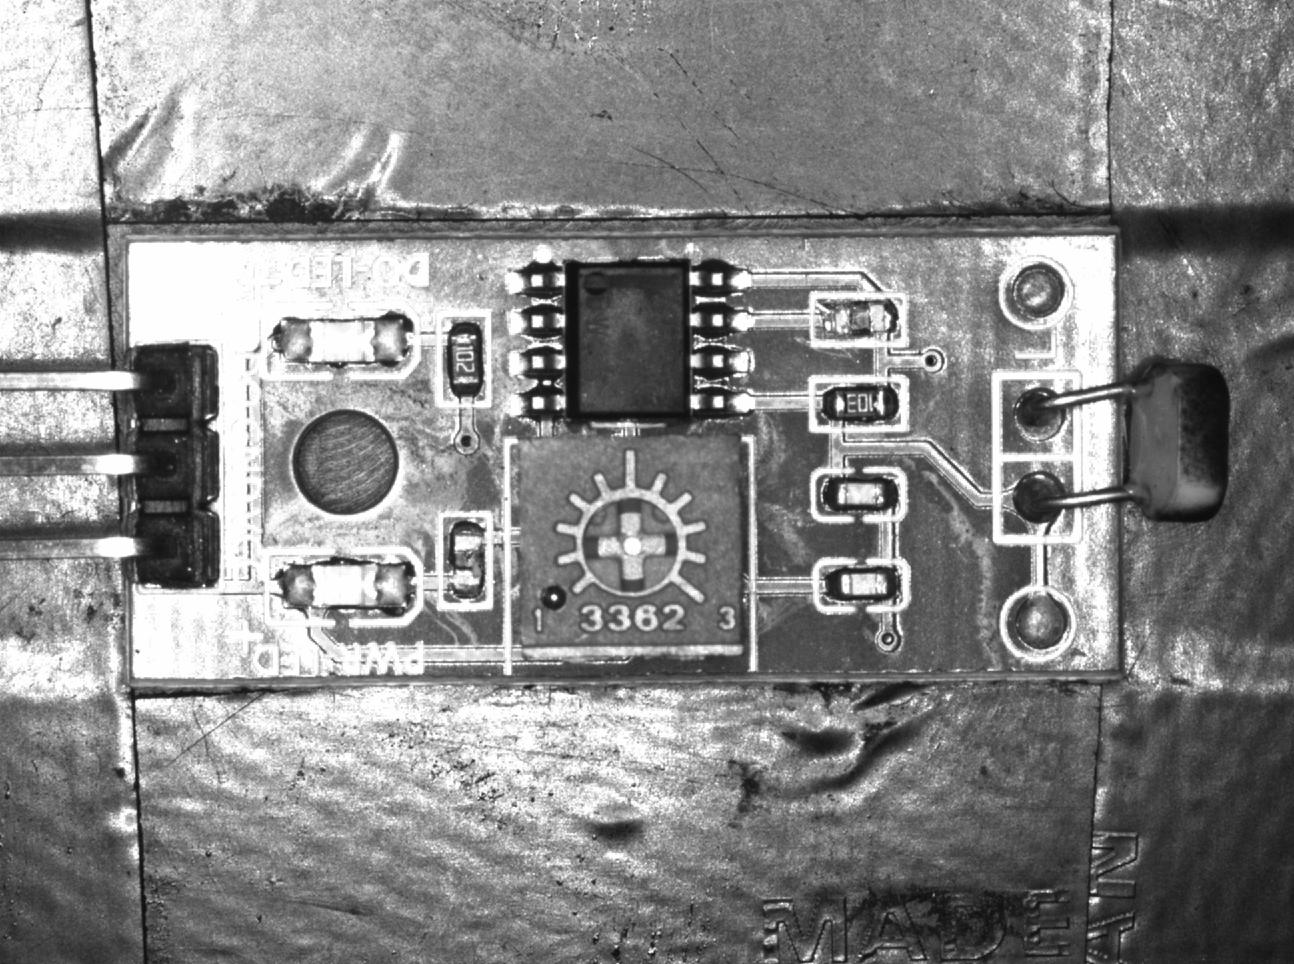miss: (813, 294, 904, 348), (439, 513, 490, 611)
ok: (813, 376, 910, 431), (440, 310, 489, 410), (814, 469, 901, 521), (816, 563, 906, 609)
